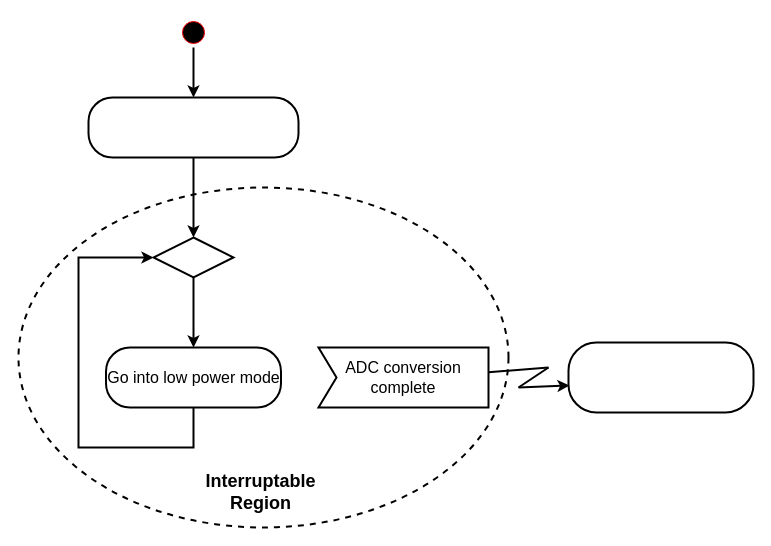
This 771x546 diagram has some shape labels left out. Each missing label, with the centre of its shape:
Change the period and duty cycle of the PWM signals: (660,377)
Initialize GPIO, Timer, ADC and Interrupt: (193,127)
